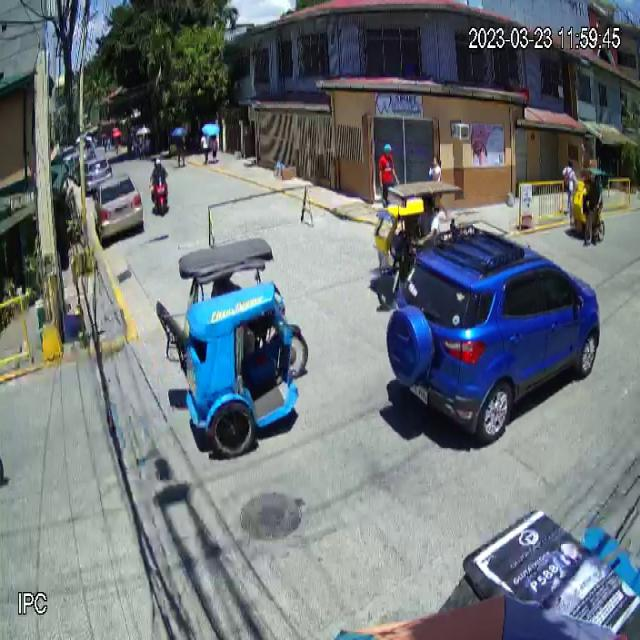Car: (385, 225, 601, 448), (94, 173, 144, 247)
Tricycle: (157, 237, 311, 463), (373, 179, 465, 294)
